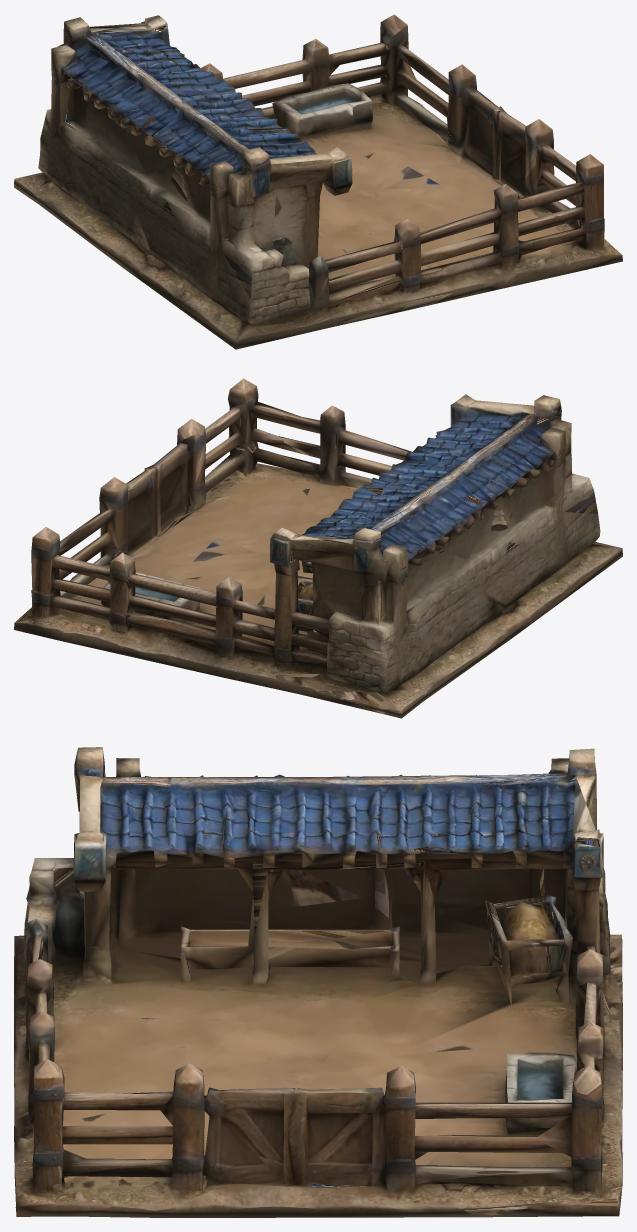
The model's file is livestock_pen_0.glb.
The picture shows the model from 3 angles, top to bottom: view 1: azimuth 30°, elevation 25°; view 2: azimuth 150°, elevation 25°; view 3: azimuth 270°, elevation 25°; orthographic projection. The views are drawn at different scales.
Visible parts, largest first — view 1: tripo_node_46631028-4598-4e92-9991-53dbe688d8db; view 2: tripo_node_46631028-4598-4e92-9991-53dbe688d8db; view 3: tripo_node_46631028-4598-4e92-9991-53dbe688d8db.
Boxes of the visible parts, <box> form: tripo_node_46631028-4598-4e92-9991-53dbe688d8db: <box>14,14,622,349</box>; tripo_node_46631028-4598-4e92-9991-53dbe688d8db: <box>14,378,622,718</box>; tripo_node_46631028-4598-4e92-9991-53dbe688d8db: <box>14,747,622,1217</box>.
Bounding box in the file's own units: 0.9791 × 0.4126 × 0.9608.
Materials: 1 (1 with a texture image).
